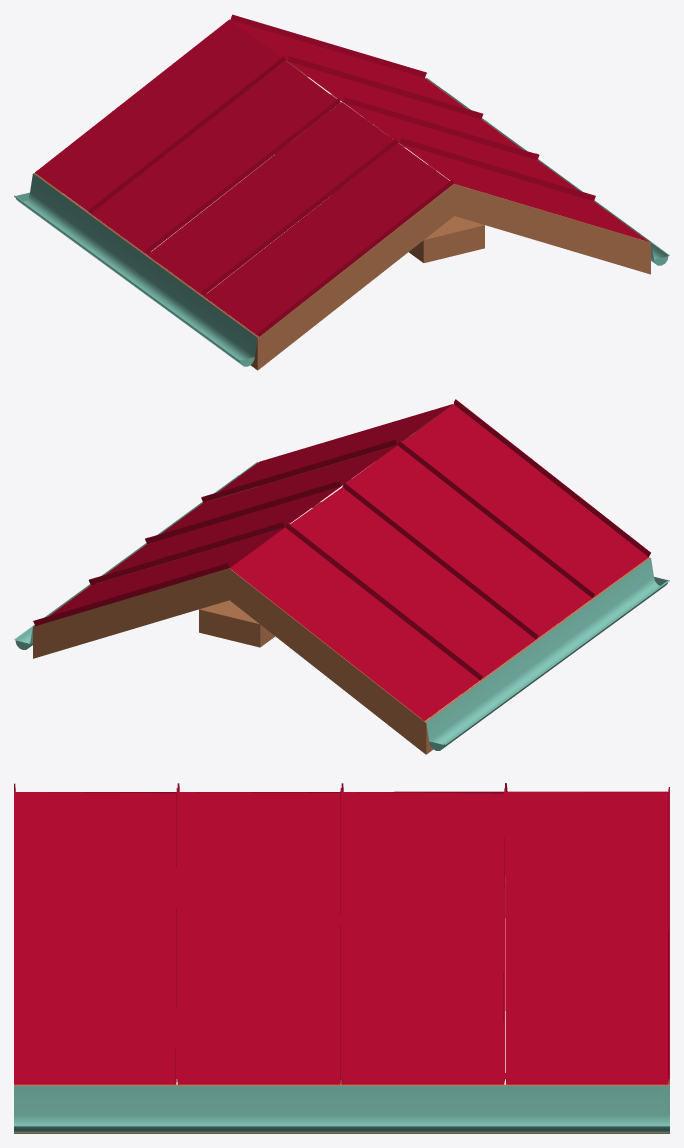
The model's file is SimpleRoof.glb.
3 views of the same model, one above another, from view 1: azimuth 30°, elevation 25°; view 2: azimuth 150°, elevation 25°; view 3: azimuth 270°, elevation 25° (orthographic). The views are drawn at different scales.
Visible parts, largest first — view 1: Roof; view 2: Roof; view 3: Roof.
Boxes of the visible parts, left/top/right/bottom form: Roof: left=14, top=14, right=669, bottom=370; Roof: left=14, top=399, right=669, bottom=754; Roof: left=14, top=783, right=669, bottom=1133.
Size of what is drawn, in the model's own units: 4.43 by 1.41 by 4.
Materials: 1 (1 with a texture image).
